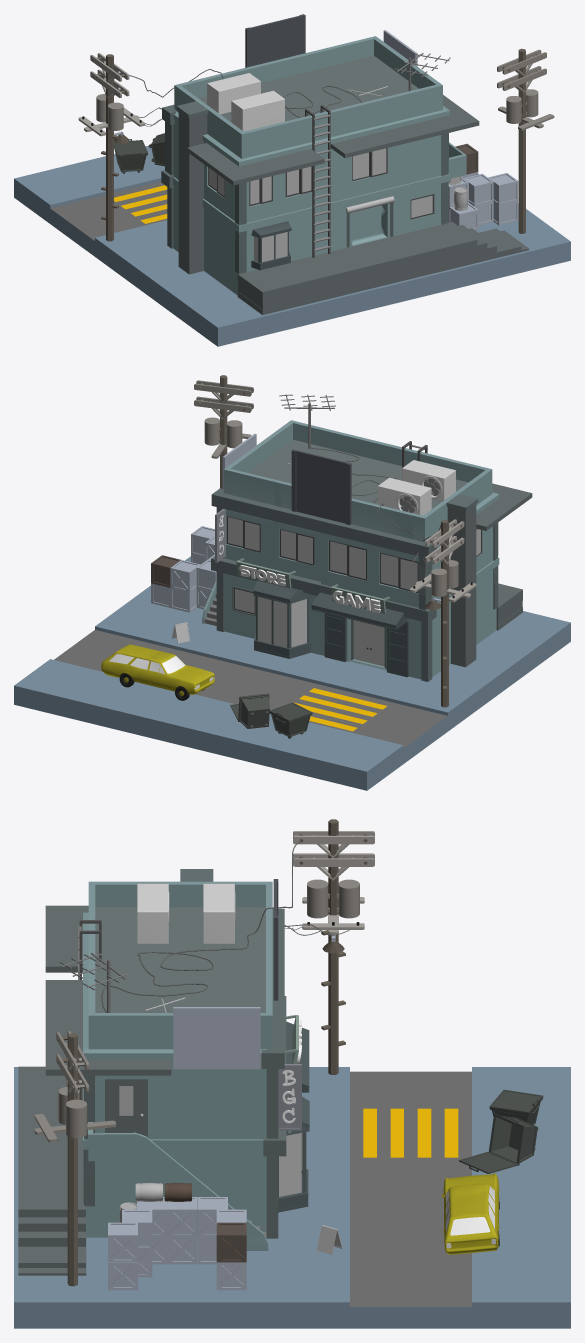
File: venue.glb
3 renders of one model, top to bottom at view 1: azimuth 30°, elevation 25°; view 2: azimuth 150°, elevation 25°; view 3: azimuth 270°, elevation 25°, orthographic. The views are drawn at different scales.
Visible parts, largest first — view 1: pCube2, pCube1, pCube41, pCube62, pCylinder12, polySurface3, pCube63, pCube5, pCube31, pCube44, pCube45, pCube28 (+16 smaller); view 2: pCube1, pCube2, pCube28, pCube62, pCube31, pCube3, polySurface3, pCylinder12, Low_Body, group7_pPlane4, pCube4, pCube45 (+18 smaller); view 3: pCube1, pCube2, pCube41, polySurface3, pCube30, pCylinder12, pCube63, pCube23, Low_Body, pCube5, pCube108, pCube28 (+22 smaller).
Part boxes in pixels (x1=…): pCube2: x1=165, y1=36, x2=449, y2=295; pCube1: x1=14, y1=145, x2=570, y2=346; pCube41: x1=237, y1=222, x2=528, y2=315; pCube62: x1=176, y1=101, x2=208, y2=274; pCylinder12: x1=497, y1=48, x2=554, y2=233; polySurface3: x1=78, y1=53, x2=145, y2=241; pCube63: x1=330, y1=95, x2=479, y2=158; pCube5: x1=187, y1=143, x2=324, y2=185; pCube31: x1=245, y1=14, x2=305, y2=67; pCube44: x1=231, y1=90, x2=284, y2=131; pCube45: x1=207, y1=73, x2=260, y2=114; pCube28: x1=251, y1=221, x2=291, y2=270; pCube1: x1=14, y1=556, x2=570, y2=790; pCube2: x1=216, y1=420, x2=499, y2=681; pCube28: x1=253, y1=580, x2=408, y2=677; pCube62: x1=446, y1=494, x2=478, y2=667; pCube31: x1=291, y1=449, x2=351, y2=524; pCube3: x1=211, y1=488, x2=436, y2=557; polySurface3: x1=409, y1=519, x2=476, y2=707; pCylinder12: x1=194, y1=375, x2=253, y2=488; Low_Body: x1=101, y1=644, x2=214, y2=694; group7_pPlane4: x1=257, y1=596, x2=306, y2=647; pCube4: x1=211, y1=556, x2=436, y2=622; pCube45: x1=378, y1=477, x2=431, y2=515; pCube1: x1=14, y1=1067, x2=570, y2=1328; pCube2: x1=83, y1=881, x2=278, y2=1238; pCube41: x1=18, y1=1066, x2=86, y2=1275; polySurface3: x1=293, y1=819, x2=374, y2=1074; pCube30: x1=173, y1=1007, x2=260, y2=1069; pCylinder12: x1=34, y1=1031, x2=116, y2=1286; pCube63: x1=45, y1=980, x2=171, y2=1075; pCube23: x1=88, y1=1122, x2=268, y2=1250; Low_Body: x1=441, y1=1173, x2=499, y2=1254; pCube5: x1=45, y1=905, x2=88, y2=972; pCube108: x1=105, y1=1079, x2=147, y2=1137; pCube28: x1=278, y1=1021, x2=309, y2=1212.
Bounding box in the file's own units: 0.2323 × 0.1307 × 0.2223.
